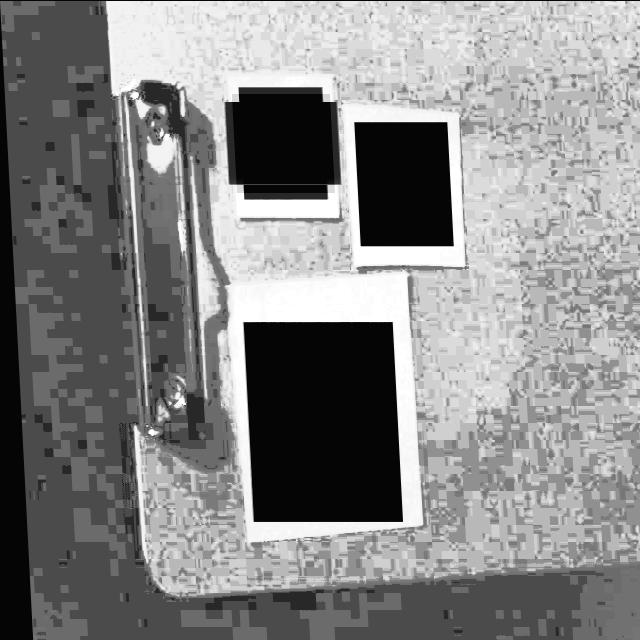qr_code: (240, 321, 398, 521), (353, 121, 451, 246), (231, 93, 333, 192)
